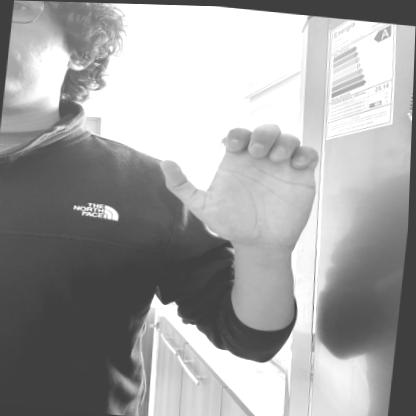E: (149, 108, 331, 251)
